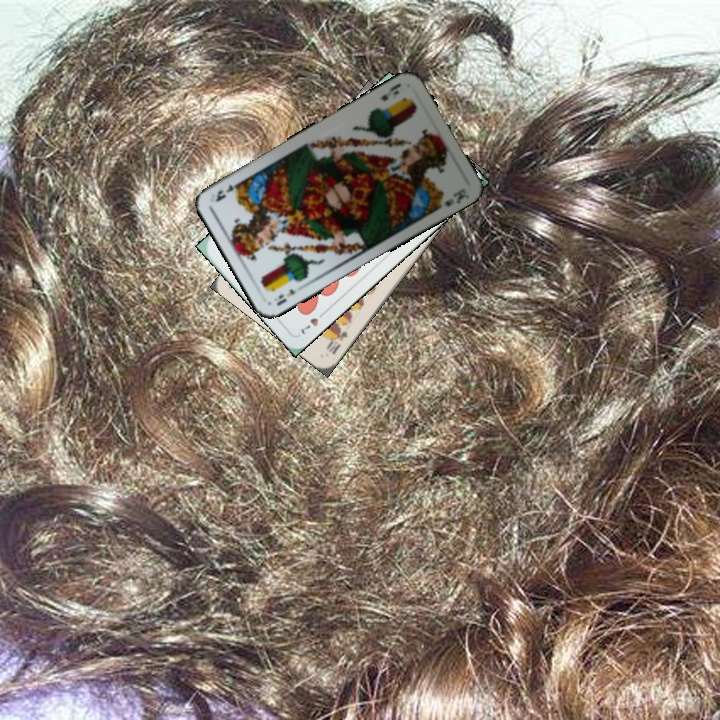E10: (322, 323, 350, 357)
EK: (377, 79, 403, 104), (273, 284, 299, 308)
H7: (297, 306, 329, 337)
